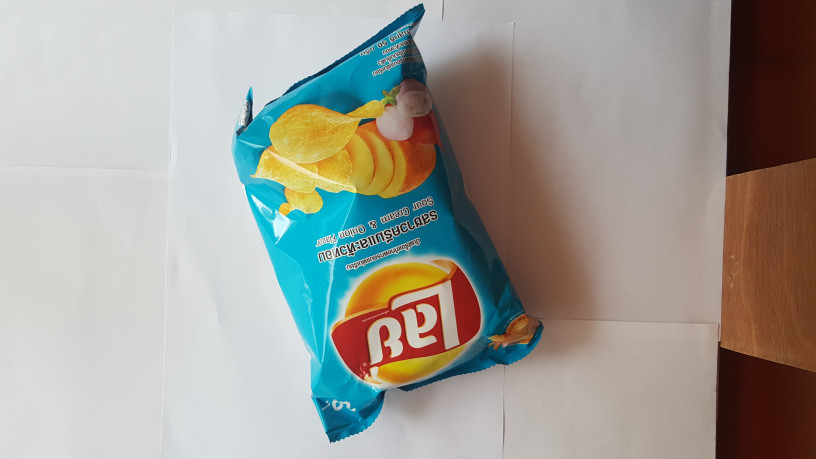lays-onion: (215, 1, 546, 448)
